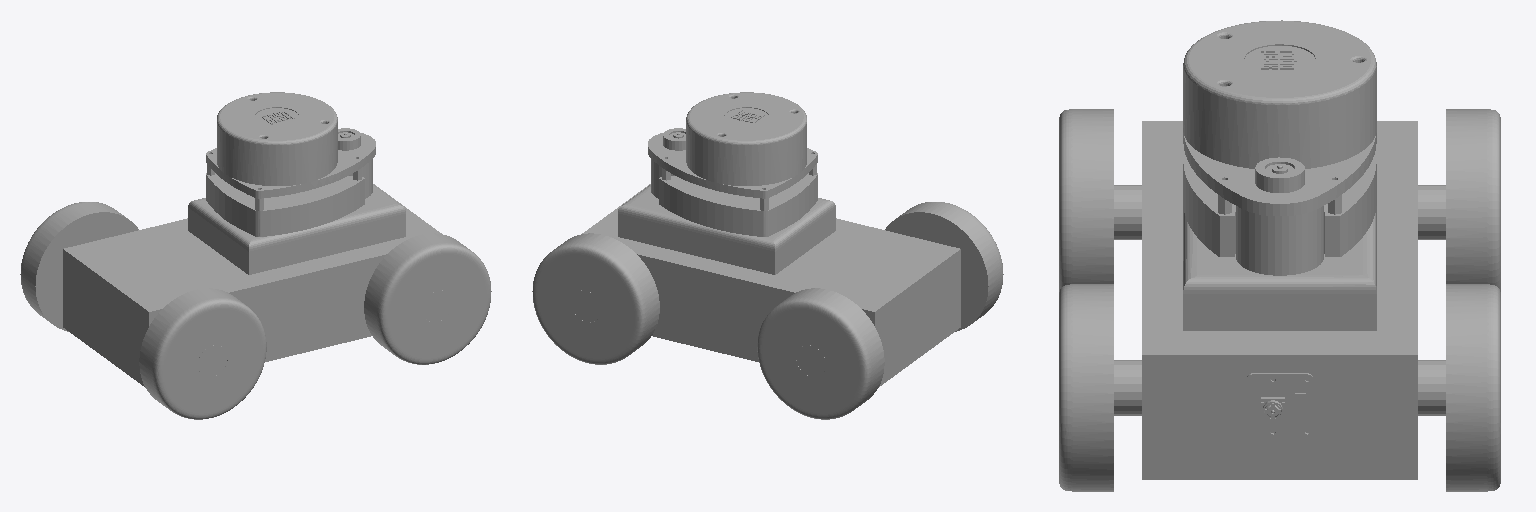
robot.urdf — ugv2:
<?xml version="1.0" encoding="utf-8"?>
<!-- =================================================================================== -->
<!-- |    This document was autogenerated by xacro from ugv2.xacro                     | -->
<!-- |    EDITING THIS FILE BY HAND IS NOT RECOMMENDED                                 | -->
<!-- =================================================================================== -->
<robot name="ugv2">
  <material name="silver">
    <color rgba="0.700 0.700 0.700 1.000"/>
  </material>
  <transmission name="rb_joint_tran">
    <type>transmission_interface/SimpleTransmission</type>
    <joint name="rb_joint">
      <hardwareInterface>hardware_interface/EffortJointInterface</hardwareInterface>
    </joint>
    <actuator name="rb_joint_actr">
      <hardwareInterface>hardware_interface/EffortJointInterface</hardwareInterface>
      <mechanicalReduction>1</mechanicalReduction>
    </actuator>
  </transmission>
  <transmission name="rf_joint_tran">
    <type>transmission_interface/SimpleTransmission</type>
    <joint name="rf_joint">
      <hardwareInterface>hardware_interface/EffortJointInterface</hardwareInterface>
    </joint>
    <actuator name="rf_joint_actr">
      <hardwareInterface>hardware_interface/EffortJointInterface</hardwareInterface>
      <mechanicalReduction>1</mechanicalReduction>
    </actuator>
  </transmission>
  <transmission name="lb_joint_tran">
    <type>transmission_interface/SimpleTransmission</type>
    <joint name="lb_joint">
      <hardwareInterface>hardware_interface/EffortJointInterface</hardwareInterface>
    </joint>
    <actuator name="lb_joint_actr">
      <hardwareInterface>hardware_interface/EffortJointInterface</hardwareInterface>
      <mechanicalReduction>1</mechanicalReduction>
    </actuator>
  </transmission>
  <transmission name="lf_joint_tran">
    <type>transmission_interface/SimpleTransmission</type>
    <joint name="lf_joint">
      <hardwareInterface>hardware_interface/EffortJointInterface</hardwareInterface>
    </joint>
    <actuator name="lf_joint_actr">
      <hardwareInterface>hardware_interface/EffortJointInterface</hardwareInterface>
      <mechanicalReduction>1</mechanicalReduction>
    </actuator>
  </transmission>
  <gazebo reference="base_link">
    <material>Gazebo/FlatBlack</material>
  </gazebo>
  <gazebo reference="lidar_1">
    <material>Gazebo/Grey</material>
  </gazebo>
  <gazebo reference="rb_wheel_1">
    <material>Gazebo/Gold</material>
  </gazebo>
  <gazebo reference="rf_wheel_1">
    <material>Gazebo/Gold</material>
  </gazebo>
  <gazebo reference="lb_wheel_1">
    <material>Gazebo/Gold</material>
  </gazebo>
  <gazebo reference="lf_wheel_1">
    <material>Gazebo/Gold</material>
  </gazebo>
  <gazebo reference="pi_camera_1">
    <material>Gazebo/Grey</material>
  </gazebo>
  <gazebo reference="imu_sensor_1">
    <material>Gazebo/Grey</material>
  </gazebo>
  <gazebo reference="base_link">
    <mu1>1.0</mu1>
    <mu2>1.0</mu2>
    <selfCollide>true</selfCollide>
    <gravity>true</gravity>
  </gazebo>
  <gazebo reference="lidar_1">
    <mu1>1.0</mu1>
    <mu2>1.0</mu2>
    <selfCollide>true</selfCollide>
  </gazebo>
  <gazebo reference="rb_wheel_1">
    <mu1>100.0</mu1>
    <mu2>100.0</mu2>
    <selfCollide>true</selfCollide>
  </gazebo>
  <gazebo reference="rf_wheel_1">
    <mu1>100.0</mu1>
    <mu2>100.0</mu2>
    <selfCollide>true</selfCollide>
  </gazebo>
  <gazebo reference="lb_wheel_1">
    <mu1>100.0</mu1>
    <mu2>100.0</mu2>
    <selfCollide>true</selfCollide>
  </gazebo>
  <gazebo reference="lf_wheel_1">
    <mu1>100.0</mu1>
    <mu2>100.0</mu2>
    <selfCollide>true</selfCollide>
  </gazebo>
  <gazebo reference="pi_camera_1">
    <mu1>1.0</mu1>
    <mu2>1.0</mu2>
    <selfCollide>true</selfCollide>
  </gazebo>
  <gazebo reference="imu_sensor_1">
    <mu1>1.0</mu1>
    <mu2>1.0</mu2>
    <selfCollide>true</selfCollide>
  </gazebo>
  <gazebo>
    <plugin filename="libgazebo_ros_control.so" name="control"/>
  </gazebo>
  <!-- ################## Differential Drive Plugin #############################-->
  <gazebo>
    <plugin filename="libgazebo_ros_diff_drive.so" name="differential_drive_controller">
      <!-- Plugin update rate in Hz -->
      <updateRate>10</updateRate>
      <!-- Name of left joint, defaults to `left_joint` -->
      <leftJoint>lf_joint</leftJoint>
      <leftJoint>lb_joint</leftJoint>
      <!-- Name of right joint, defaults to `right_joint` -->
      <rightJoint>rf_joint</rightJoint>
      <leftJoint>rb_joint</leftJoint>
      <!-- The distance from the center of one wheel to the other, in meters, defaults to 0.34 m -->
      <wheelSeparation>0.5380</wheelSeparation>
      <!-- Diameter of the wheels, in meters, defaults to 0.15 m -->
      <wheelDiameter>0.2410</wheelDiameter>
      <!-- Wheel acceleration, in rad/s^2, defaults to 0.0 rad/s^2 -->
      <wheelAcceleration>1.0</wheelAcceleration>
      <!-- Maximum torque which the wheels can produce, in Nm, defaults to 5 Nm -->
      <wheelTorque>20</wheelTorque>
      <!-- Topic to receive geometry_msgs/Twist message commands, defaults to `cmd_vel` -->
      <commandTopic>cmd_vel</commandTopic>
      <!-- Topic to publish nav_msgs/Odometry messages, defaults to `odom` -->
      <odometryTopic>odom</odometryTopic>
      <!-- Odometry frame, defaults to `odom` -->
      <odometryFrame>odom</odometryFrame>
      <!-- Robot frame to calculate odometry from, defaults to `base_footprint` -->
      <robotBaseFrame>base_footprint</robotBaseFrame>
      <!-- Odometry source, 0 for ENCODER, 1 for WORLD, defaults to WORLD -->
      <odometrySource>1</odometrySource>
      <!-- Set to true to publish transforms for the wheel links, defaults to false -->
      <publishWheelTF>true</publishWheelTF>
      <!-- Set to true to publish transforms for the odometry, defaults to true -->
      <publishOdom>true</publishOdom>
      <!-- Set to true to publish sensor_msgs/JointState on /joint_states for the wheel joints, defaults to false -->
      <publishWheelJointState>true</publishWheelJointState>
      <!-- Set to true to swap right and left wheels, defaults to true -->
      <legacyMode>false</legacyMode>
    </plugin>
  </gazebo>
  <!-- ################################ Lidar Plugin ################################################-->
  <!-- hokuyo -->
  <gazebo reference="lidar_1">
    <sensor name="head_hokuyo_sensor" type="gpu_ray">
      <pose>0 0 0 0 0 0</pose>
      <visualize>true</visualize>
      <update_rate>40</update_rate>
      <ray>
        <scan>
          <horizontal>
            <samples>720</samples>
            <resolution>1</resolution>
            <min_angle>-3.14159</min_angle>
            <max_angle>3.14159</max_angle>
          </horizontal>
        </scan>
        <range>
          <min>0.10</min>
          <max>30.0</max>
          <resolution>0.01</resolution>
        </range>
        <noise>
          <type>gaussian</type>
          <!-- Noise parameters based on published spec for Hokuyo laser
               achieving "+-30mm" accuracy at range < 10m.  A mean of 0.0m and
               stddev of 0.01m will put 99.7% of samples within 0.03m of the true
               reading. -->
          <mean>0.0</mean>
          <stddev>0.01</stddev>
        </noise>
      </ray>
      <plugin filename="libgazebo_ros_gpu_laser.so" name="gazebo_ros_head_hokuyo_controller">
        <topicName>/scan</topicName>
        <frameName>lidar_1</frameName>
      </plugin>
    </sensor>
  </gazebo>
  <link name="base_link">
    <inertial>
      <origin rpy="0 0 0" xyz="0.0033907472402908267 -1.2294185660792603e-16 0.04205737762945809"/>
      <mass value="9.291590162574073"/>
      <inertia ixx="0.011185" ixy="0.0" ixz="-0.000965" iyy="0.032552" iyz="0.0" izz="0.037924"/>
    </inertial>
    <visual>
      <origin rpy="0 0 0" xyz="0 0 0"/>
      <geometry>
        <mesh filename="package://ugv2_description/meshes/base_link.stl" scale="0.001 0.001 0.001"/>
      </geometry>
      <material name="silver"/>
    </visual>
    <collision>
      <origin rpy="0 0 0" xyz="0 0 0"/>
      <geometry>
        <mesh filename="package://ugv2_description/meshes/base_link.stl" scale="0.001 0.001 0.001"/>
      </geometry>
    </collision>
  </link>
  <link name="lidar_1">
    <inertial>
      <origin rpy="0 0 0" xyz="-0.007652767991941433 0.00010612194415757128 0.027402719643241688"/>
      <mass value="1.8747231102330029"/>
      <inertia ixx="0.001113" ixy="1e-06" ixz="0.000122" iyy="0.00152" iyz="4e-06" izz="0.001534"/>
    </inertial>
    <visual>
      <origin rpy="0 0 0" xyz="-0.0275 -0.0 -0.08275"/>
      <geometry>
        <mesh filename="package://ugv2_description/meshes/lidar_1.stl" scale="0.001 0.001 0.001"/>
      </geometry>
      <material name="silver"/>
    </visual>
    <collision>
      <origin rpy="0 0 0" xyz="-0.0275 -0.0 -0.08275"/>
      <geometry>
        <mesh filename="package://ugv2_description/meshes/lidar_1.stl" scale="0.001 0.001 0.001"/>
      </geometry>
    </collision>
  </link>
  <link name="rb_wheel_1">
    <inertial>
      <origin rpy="0 0 0" xyz="-1.5849974110970777e-11 0.010079338741740565 4.163336342344337e-17"/>
      <mass value="0.6387176905227006"/>
      <inertia ixx="0.00026" ixy="-0.0" ixz="-0.0" iyy="0.000478" iyz="0.0" izz="0.00026"/>
    </inertial>
    <visual>
      <origin rpy="0 0 0" xyz="0.075 0.08 -0.03775"/>
      <geometry>
        <mesh filename="package://ugv2_description/meshes/rb_wheel_1.stl" scale="0.001 0.001 0.001"/>
      </geometry>
      <material name="silver"/>
    </visual>
    <collision>
      <origin rpy="0 0 0" xyz="0.075 0.08 -0.03775"/>
      <geometry>
        <mesh filename="package://ugv2_description/meshes/rb_wheel_1.stl" scale="0.001 0.001 0.001"/>
      </geometry>
    </collision>
  </link>
  <link name="rf_wheel_1">
    <inertial>
      <origin rpy="0 0 0" xyz="1.568842278310001e-11 0.010079338741740482 1.457167719820518e-16"/>
      <mass value="0.6387176905227065"/>
      <inertia ixx="0.00026" ixy="0.0" ixz="0.0" iyy="0.000478" iyz="0.0" izz="0.00026"/>
    </inertial>
    <visual>
      <origin rpy="0 0 0" xyz="-0.075 0.08 -0.03775"/>
      <geometry>
        <mesh filename="package://ugv2_description/meshes/rf_wheel_1.stl" scale="0.001 0.001 0.001"/>
      </geometry>
      <material name="silver"/>
    </visual>
    <collision>
      <origin rpy="0 0 0" xyz="-0.075 0.08 -0.03775"/>
      <geometry>
        <mesh filename="package://ugv2_description/meshes/rf_wheel_1.stl" scale="0.001 0.001 0.001"/>
      </geometry>
    </collision>
  </link>
  <link name="lb_wheel_1">
    <inertial>
      <origin rpy="0 0 0" xyz="1.0906087977158307e-09 -0.010079338740724489 -1.249000902703301e-16"/>
      <mass value="0.6387176904141518"/>
      <inertia ixx="0.00026" ixy="0.0" ixz="-0.0" iyy="0.000478" iyz="-0.0" izz="0.00026"/>
    </inertial>
    <visual>
      <origin rpy="0 0 0" xyz="0.075 -0.08 -0.03775"/>
      <geometry>
        <mesh filename="package://ugv2_description/meshes/lb_wheel_1.stl" scale="0.001 0.001 0.001"/>
      </geometry>
      <material name="silver"/>
    </visual>
    <collision>
      <origin rpy="0 0 0" xyz="0.075 -0.08 -0.03775"/>
      <geometry>
        <mesh filename="package://ugv2_description/meshes/lb_wheel_1.stl" scale="0.001 0.001 0.001"/>
      </geometry>
    </collision>
  </link>
  <link name="lf_wheel_1">
    <inertial>
      <origin rpy="0 0 0" xyz="-1.090447468432565e-09 -0.010079338740724475 -5.204170427930421e-16"/>
      <mass value="0.6387176904144656"/>
      <inertia ixx="0.00026" ixy="-0.0" ixz="0.0" iyy="0.000478" iyz="0.0" izz="0.00026"/>
    </inertial>
    <visual>
      <origin rpy="0 0 0" xyz="-0.075 -0.08 -0.03775"/>
      <geometry>
        <mesh filename="package://ugv2_description/meshes/lf_wheel_1.stl" scale="0.001 0.001 0.001"/>
      </geometry>
      <material name="silver"/>
    </visual>
    <collision>
      <origin rpy="0 0 0" xyz="-0.075 -0.08 -0.03775"/>
      <geometry>
        <mesh filename="package://ugv2_description/meshes/lf_wheel_1.stl" scale="0.001 0.001 0.001"/>
      </geometry>
    </collision>
  </link>
  <link name="pi_camera_1">
    <inertial>
      <origin rpy="0 0 0" xyz="0.0013912758702941674 -0.00038922935427077444 0.005065651333291829"/>
      <mass value="0.006742869651497955"/>
      <inertia ixx="0.0" ixy="0.0" ixz="-0.0" iyy="0.0" iyz="-0.0" izz="0.0"/>
    </inertial>
    <visual>
      <origin rpy="0 0 0" xyz="-0.1 -0.0 -0.03775"/>
      <geometry>
        <mesh filename="package://ugv2_description/meshes/pi_camera_1.stl" scale="0.001 0.001 0.001"/>
      </geometry>
      <material name="silver"/>
    </visual>
    <collision>
      <origin rpy="0 0 0" xyz="-0.1 -0.0 -0.03775"/>
      <geometry>
        <mesh filename="package://ugv2_description/meshes/pi_camera_1.stl" scale="0.001 0.001 0.001"/>
      </geometry>
    </collision>
  </link>
  <link name="imu_sensor_1">
    <inertial>
      <origin rpy="0 0 0" xyz="8.182177681428845e-05 -6.318495909852773e-06 0.00015585415981772544"/>
      <mass value="0.0005786974233911097"/>
      <inertia ixx="0.0" ixy="0.0" ixz="0.0" iyy="0.0" iyz="0.0" izz="0.0"/>
    </inertial>
    <visual>
      <origin rpy="0 0 0" xyz="-0.0 -0.0 -0.01275"/>
      <geometry>
        <mesh filename="package://ugv2_description/meshes/imu_sensor_1.stl" scale="0.001 0.001 0.001"/>
      </geometry>
      <material name="silver"/>
    </visual>
    <collision>
      <origin rpy="0 0 0" xyz="-0.0 -0.0 -0.01275"/>
      <geometry>
        <mesh filename="package://ugv2_description/meshes/imu_sensor_1.stl" scale="0.001 0.001 0.001"/>
      </geometry>
    </collision>
  </link>
  <joint name="lidar_joint" type="fixed">
    <origin rpy="0 0 0" xyz="0.0275 0.0 0.08275"/>
    <parent link="base_link"/>
    <child link="lidar_1"/>
  </joint>
  <joint name="rb_joint" type="continuous">
    <origin rpy="0 0 0" xyz="-0.075 -0.08 0.03775"/>
    <parent link="base_link"/>
    <child link="rb_wheel_1"/>
    <axis xyz="0.0 1.0 0.0"/>
  </joint>
  <joint name="rf_joint" type="continuous">
    <origin rpy="0 0 0" xyz="0.075 -0.08 0.03775"/>
    <parent link="base_link"/>
    <child link="rf_wheel_1"/>
    <axis xyz="0.0 1.0 0.0"/>
  </joint>
  <joint name="lb_joint" type="continuous">
    <origin rpy="0 0 0" xyz="-0.075 0.08 0.03775"/>
    <parent link="base_link"/>
    <child link="lb_wheel_1"/>
    <axis xyz="0.0 1.0 0.0"/>
  </joint>
  <joint name="lf_joint" type="continuous">
    <origin rpy="0 0 0" xyz="0.075 0.08 0.03775"/>
    <parent link="base_link"/>
    <child link="lf_wheel_1"/>
    <axis xyz="0.0 1.0 0.0"/>
  </joint>
  <joint name="pi_joint" type="fixed">
    <origin rpy="0 0 0" xyz="0.1 0.0 0.03775"/>
    <parent link="base_link"/>
    <child link="pi_camera_1"/>
  </joint>
  <joint name="imu_joint" type="fixed">
    <origin rpy="0 0 0" xyz="0.0 0.0 0.01275"/>
    <parent link="base_link"/>
    <child link="imu_sensor_1"/>
  </joint>
</robot>

--- Render facts (derived) ---
The picture shows the robot from 3 angles, left to right: view 1: azimuth 30°, elevation 25°; view 2: azimuth 150°, elevation 25°; view 3: azimuth 270°, elevation 25°; orthographic projection.
Robot: ugv2 — 8 links, 7 joints (4 continuous, 3 fixed); root link base_link; default pose: every joint at zero.
Visible links, largest first — view 1: base_link, lidar_1, rb_wheel_1, rf_wheel_1, lb_wheel_1; view 2: base_link, lidar_1, lb_wheel_1, lf_wheel_1, rb_wheel_1; view 3: base_link, lidar_1, rf_wheel_1, lf_wheel_1, rb_wheel_1, lb_wheel_1, pi_camera_1.
Link boxes in pixels (<box>): base_link: <box>63,184,452,386</box>; lidar_1: <box>206,92,375,236</box>; rb_wheel_1: <box>139,288,266,419</box>; rf_wheel_1: <box>364,233,491,364</box>; lb_wheel_1: <box>20,202,138,331</box>; base_link: <box>571,184,960,386</box>; lidar_1: <box>648,92,817,236</box>; lb_wheel_1: <box>757,288,884,419</box>; lf_wheel_1: <box>532,233,659,364</box>; rb_wheel_1: <box>885,202,1003,331</box>; base_link: <box>1114,121,1445,479</box>; lidar_1: <box>1183,20,1376,275</box>; rf_wheel_1: <box>1059,284,1113,491</box>; lf_wheel_1: <box>1446,284,1500,491</box>; rb_wheel_1: <box>1059,109,1113,291</box>; lb_wheel_1: <box>1446,109,1500,291</box>; pi_camera_1: <box>1247,373,1312,436</box>.
Size in the robot's own frame: 0.225 by 0.16 by 0.1403 metres.
8 mesh visuals loaded from 8 distinct referenced files (8 binary STL).